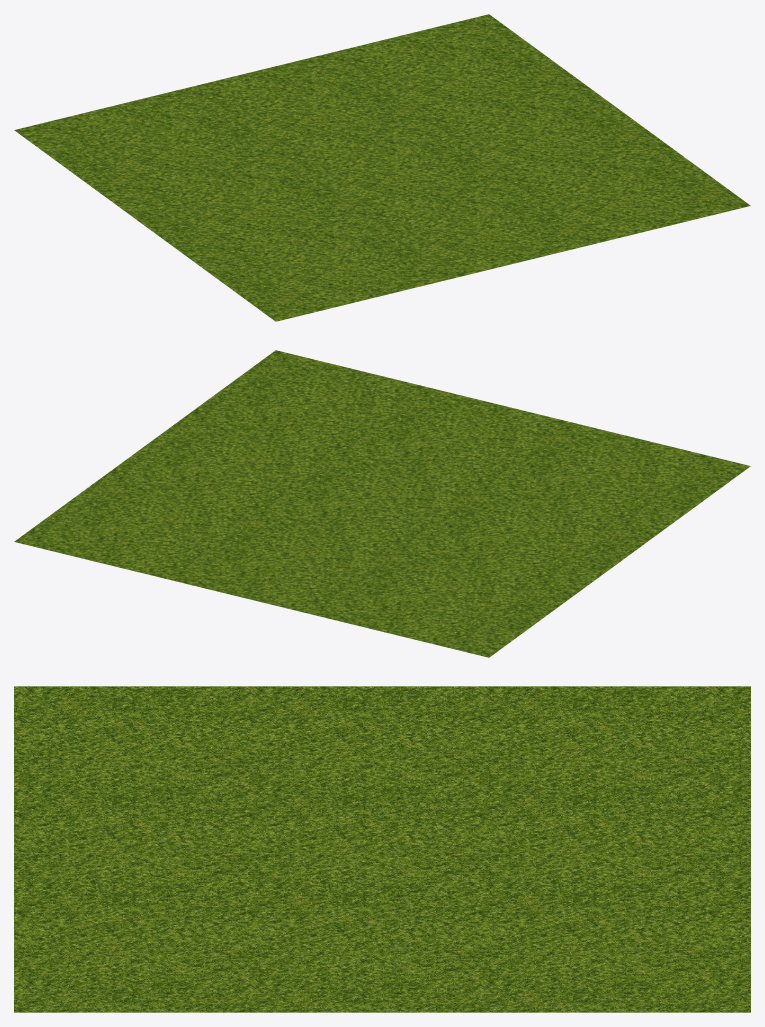
Rendered from terrain3.dae.
3 renders of one model, top to bottom at view 1: azimuth 30°, elevation 25°; view 2: azimuth 150°, elevation 25°; view 3: azimuth 270°, elevation 25°, orthographic. The views are drawn at different scales.
Parts seen in each view (by area): view 1: SketchUp; view 2: SketchUp; view 3: SketchUp.
Boxes of the visible parts, x1,y1,x2,y2 form: SketchUp: [14, 14, 750, 321]; SketchUp: [14, 350, 750, 657]; SketchUp: [14, 686, 750, 1012].
Size of the model in its own units: 66 by 63 by 0.
Materials: 1 (1 with a texture image).
